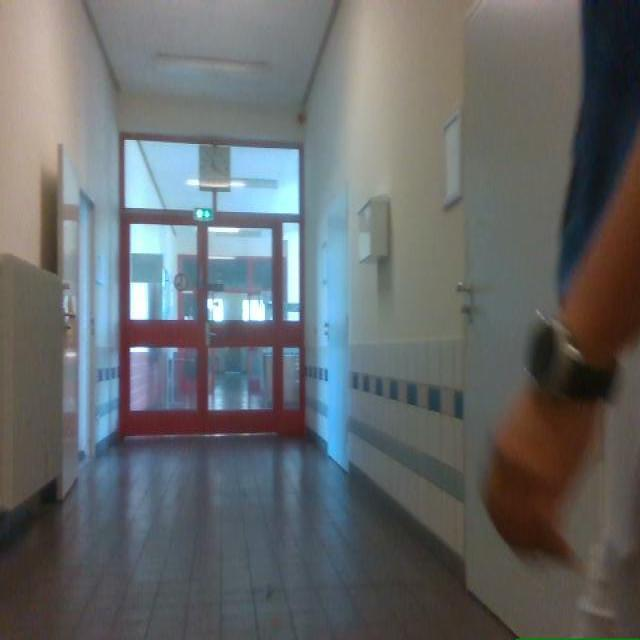humans: (483, 0, 639, 636)
